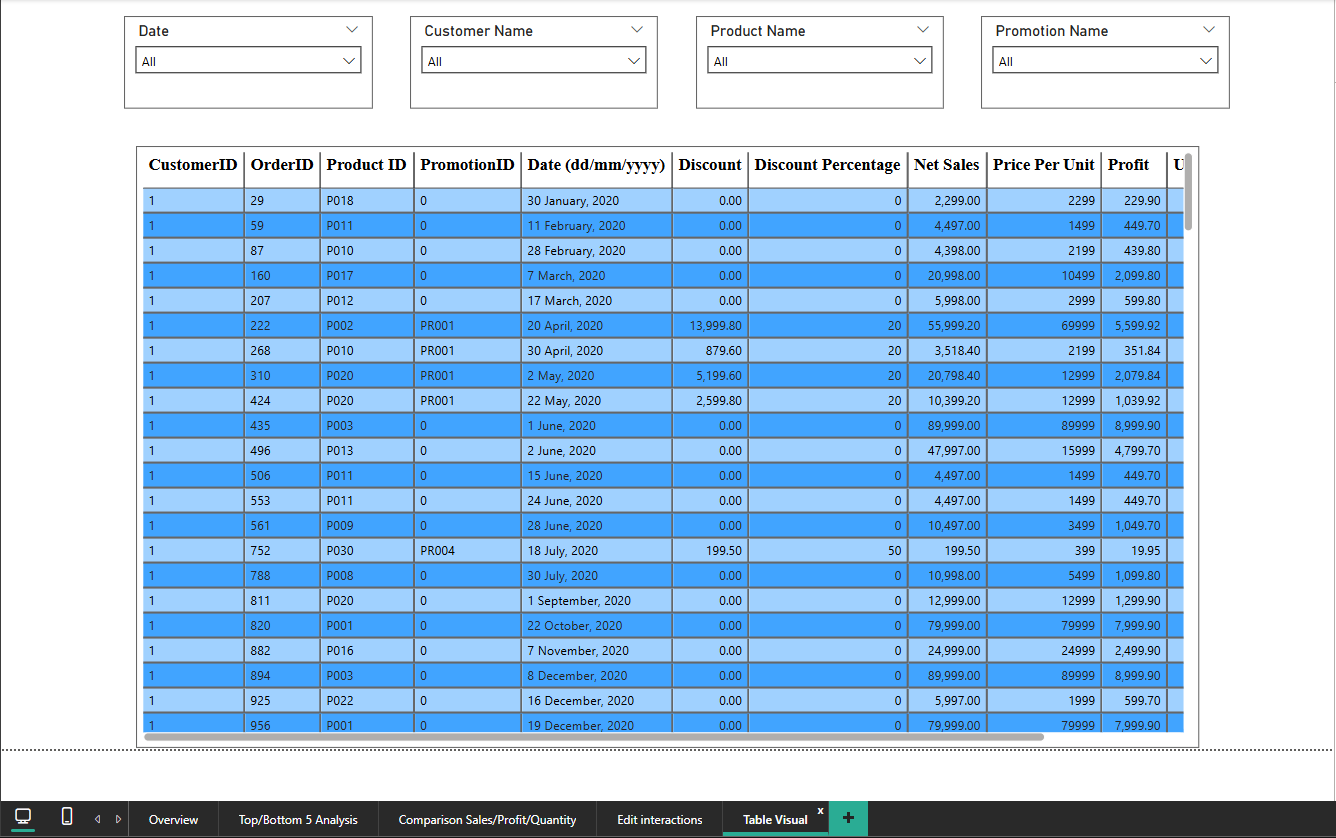

The dashboard page shown, as its layout file describes it:
{"tool":"powerbi","page":{"name":"Table Visual","canvas":[1280,720],"ordinal":4},"visuals":[{"type":"tableEx","fields":{"Values":["Fact Table.CustomerID","Fact Table.OrderID","Fact Table.Product ID","Fact Table.PromotionID","Fact Table.Date (dd/mm/yyyy)","Fact Table.Discount Value","Fact Table.Discount Percentage","Fact Table.Net Sales    ","Fact Table.Price Per Unit","Fact Table.Profit","Fact Table.Units Sold","Fact Table.Total Sales  "]},"box":[129.7,141.3,1020.5,578.5],"z":0},{"type":"slicer","fields":{"Values":["Date Table 1.Date"]},"box":[118.2,16.3,239.3,89.4],"z":1000},{"type":"slicer","fields":{"Values":["Dim Customers.Customer Name"]},"box":[393,16.3,238.3,89.4],"z":2000},{"type":"slicer","fields":{"Values":["Dim Product.Product Name"]},"box":[666.9,16.3,238.3,89.4],"z":3000},{"type":"slicer","fields":{"Values":["Dim Promotion.Promotion Name"]},"box":[940.8,16.3,239.3,89.4],"z":4000}]}

Visuals, with their boxes on the page's 1280x720 design canvas (x1, y1, x2, y2). These are canvas units, not pixel positions in the 1336x838 screenshot, which may show the page scaled, cropped or inside an application window:
tableEx - Fact Table.CustomerID x Fact Table.OrderID: <region>130, 141, 1150, 720</region>
slicer - Date Table 1.Date: <region>118, 16, 358, 106</region>
slicer - Dim Customers.Customer Name: <region>393, 16, 631, 106</region>
slicer - Dim Product.Product Name: <region>667, 16, 905, 106</region>
slicer - Dim Promotion.Promotion Name: <region>941, 16, 1180, 106</region>
